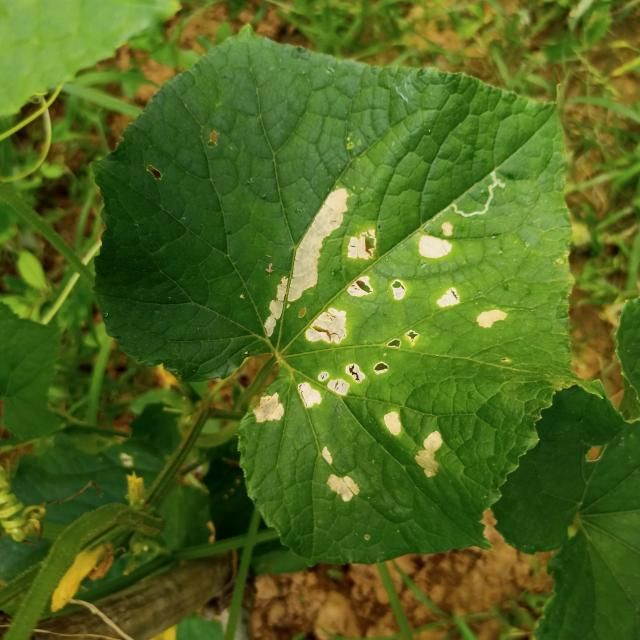disease_cucumber: (258, 181, 386, 351), (384, 219, 520, 354), (242, 327, 420, 428), (311, 404, 456, 506)
